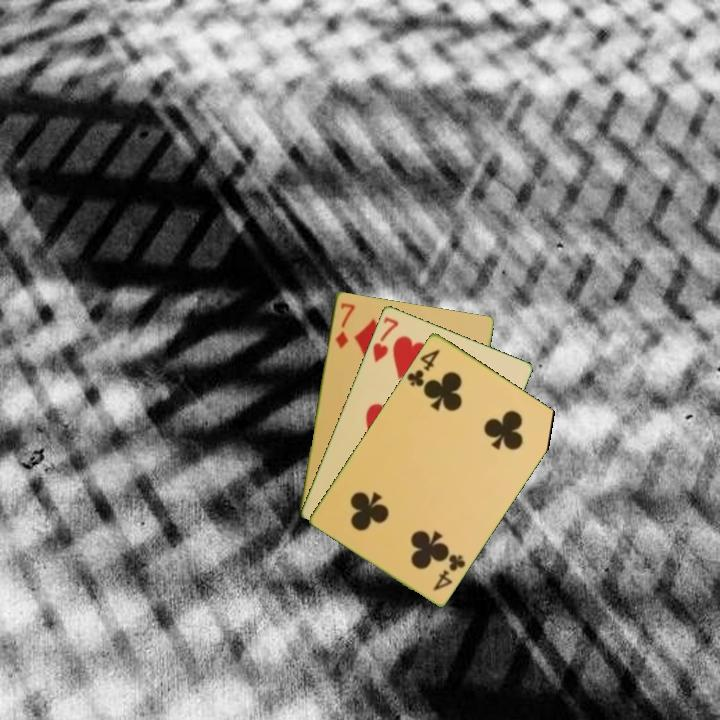4c: (403, 345, 443, 391), (429, 550, 468, 593)
7d: (332, 299, 358, 351)
7h: (369, 313, 401, 365)
